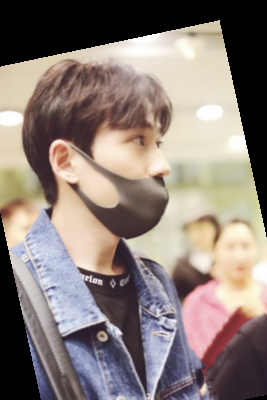mask_weared_incorrect: (21, 55, 182, 236)
